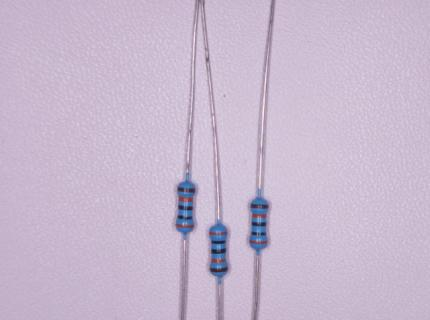Black band: (178, 205, 193, 211), (252, 221, 266, 227), (177, 215, 193, 220), (211, 249, 226, 254), (251, 232, 266, 236), (211, 240, 226, 244)
Brown band: (250, 203, 269, 210), (209, 267, 229, 273), (178, 187, 196, 193)
Orange band: (175, 223, 195, 229), (178, 196, 193, 203), (211, 258, 226, 263), (252, 214, 267, 219), (249, 240, 267, 244), (209, 232, 227, 236)
